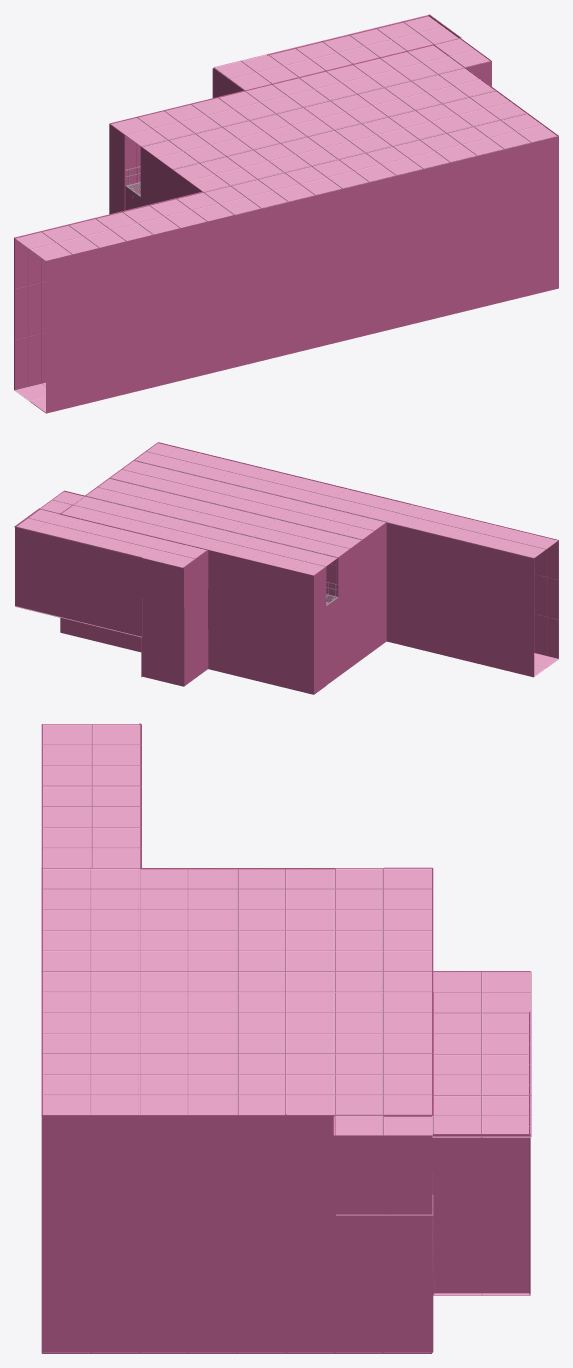
Rendered from ROOM2_Model.fbx.
3 renders of one model, top to bottom at view 1: azimuth 30°, elevation 25°; view 2: azimuth 150°, elevation 25°; view 3: azimuth 270°, elevation 25°, orthographic. The views are drawn at different scales.
Visible parts, largest first — view 1: polySurface264; view 2: polySurface264; view 3: polySurface264.
Part boxes in pixels (x1,y1,x2,y2): polySurface264: (14, 14, 558, 413); polySurface264: (14, 442, 558, 694); polySurface264: (41, 723, 531, 1353).
Bounding box in the file's own units: 8016 × 2181 × 4027.
4 materials, 3 textured.
